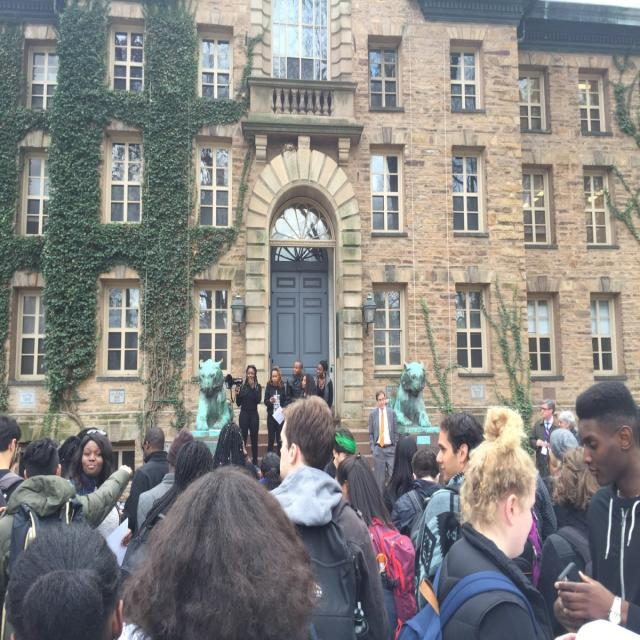body: (395, 404, 580, 640), (118, 466, 322, 638), (268, 396, 390, 640), (0, 438, 134, 638), (554, 380, 640, 639), (471, 406, 558, 640), (119, 439, 216, 627), (332, 452, 417, 640), (413, 410, 486, 615), (3, 522, 126, 640), (536, 446, 602, 640), (137, 428, 195, 542), (388, 445, 448, 553), (67, 429, 122, 542), (122, 425, 170, 539), (52, 428, 98, 503), (368, 388, 399, 498), (380, 432, 419, 514), (233, 364, 262, 474), (210, 421, 260, 481), (543, 426, 581, 504), (0, 411, 27, 517), (528, 398, 561, 473), (263, 365, 286, 459), (322, 427, 357, 480), (255, 452, 282, 492), (314, 359, 334, 409), (556, 409, 583, 446), (543, 458, 559, 518), (285, 360, 304, 404), (6, 450, 22, 477), (299, 373, 316, 398)
